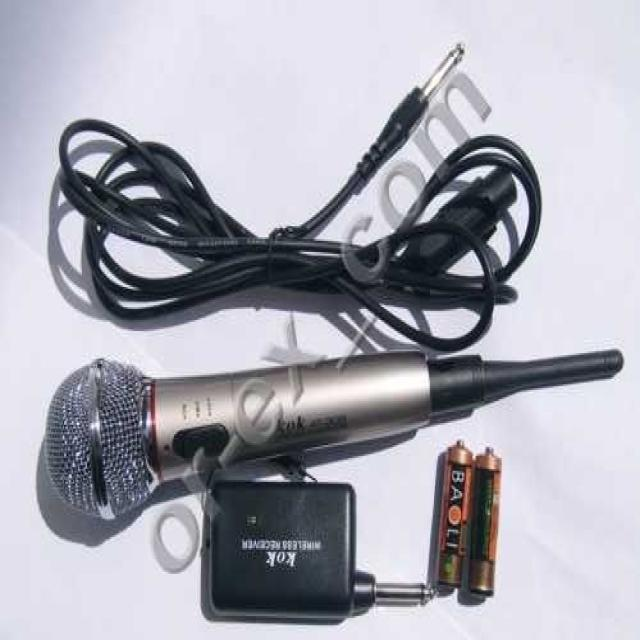microphone: (47, 339, 612, 518)
